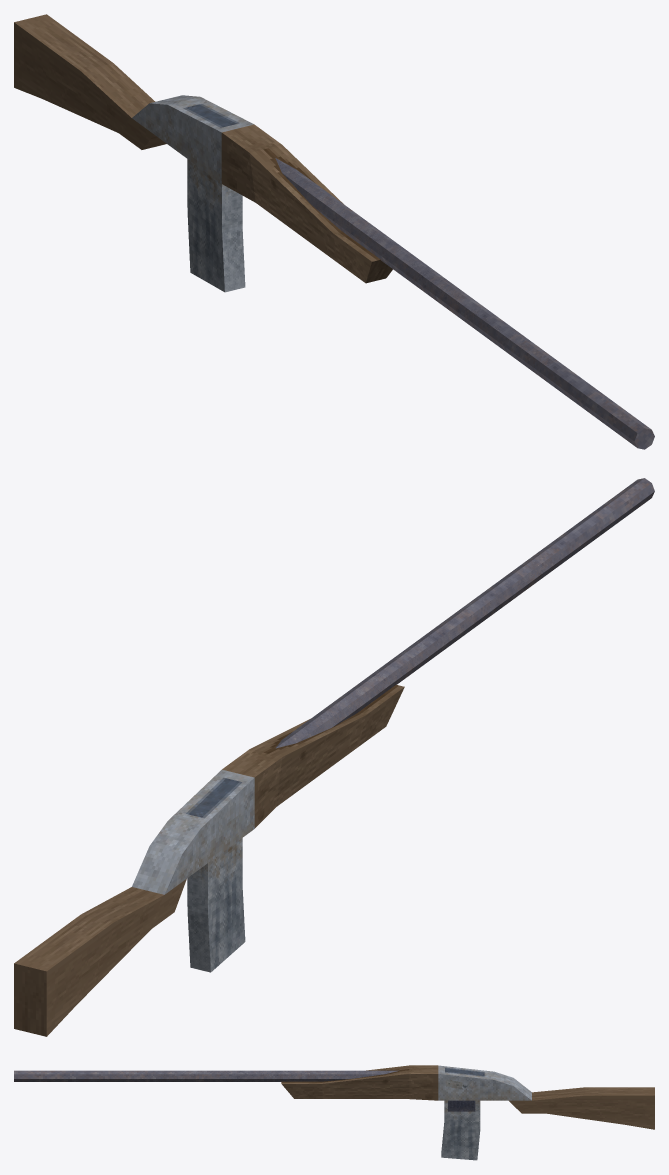
The model's file is Rifle.glb.
The picture shows the model from 3 angles, top to bottom: view 1: azimuth 30°, elevation 25°; view 2: azimuth 150°, elevation 25°; view 3: azimuth 270°, elevation 25°; orthographic projection. The views are drawn at different scales.
Visible parts, largest first — view 1: Stock, Handle, Barrel_STD, Magazine, Barrel_LONG, FM_STD, Barrel_SHORT; view 2: Stock, FM_STD, Handle, Barrel_STD, Barrel_LONG, Magazine, Barrel_SHORT; view 3: Stock, Handle, Barrel_STD, FM_STD, Barrel_LONG, Magazine, Barrel_SHORT, Clip, AS.
Boxes of the visible parts, x1=… form: Stock: x1=14, y1=14, x2=166, y2=149; Handle: x1=221, y1=124, x2=392, y2=283; Barrel_STD: x1=275, y1=158, x2=560, y2=381; Magazine: x1=187, y1=159, x2=245, y2=292; Barrel_LONG: x1=276, y1=158, x2=654, y2=449; FM_STD: x1=132, y1=95, x2=254, y2=183; Barrel_SHORT: x1=276, y1=159, x2=464, y2=307; Stock: x1=14, y1=879, x2=186, y2=1036; FM_STD: x1=132, y1=769, x2=254, y2=894; Handle: x1=222, y1=684, x2=404, y2=828; Barrel_STD: x1=276, y1=544, x2=563, y2=748; Barrel_LONG: x1=277, y1=478, x2=654, y2=747; Magazine: x1=187, y1=838, x2=245, y2=972; Barrel_SHORT: x1=278, y1=611, x2=472, y2=746; Stock: x1=509, y1=1087, x2=654, y2=1129; Handle: x1=281, y1=1065, x2=438, y2=1100; Barrel_STD: x1=108, y1=1070, x2=398, y2=1081; FM_STD: x1=438, y1=1065, x2=531, y2=1100; Barrel_LONG: x1=14, y1=1070, x2=397, y2=1081; Magazine: x1=441, y1=1100, x2=480, y2=1160; Barrel_SHORT: x1=204, y1=1070, x2=394, y2=1081; Clip: x1=448, y1=1100, x2=475, y2=1111; AS: x1=445, y1=1079, x2=477, y2=1089.
Bounding box in the file's own units: 0.0825 × 0.3941 × 2.6.
Materials: 1 (1 with a texture image).
